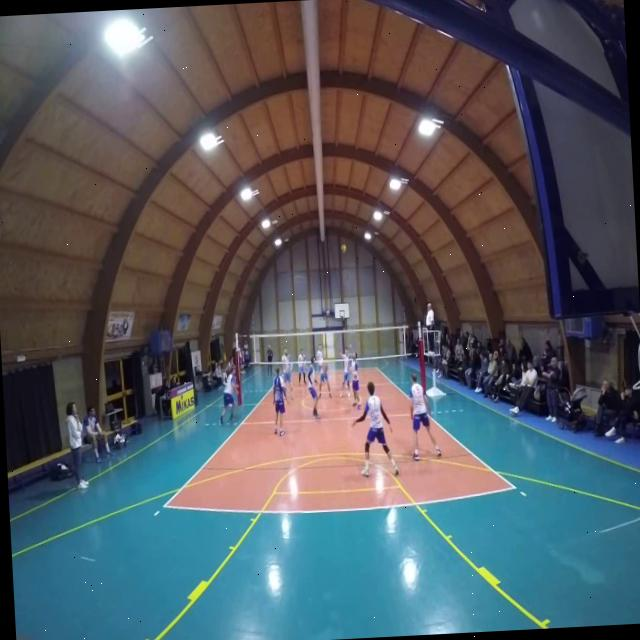Volleyball: (341, 242, 348, 255)
